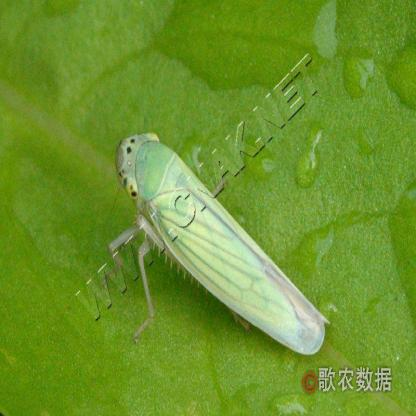Green-Leafhopper: (107, 128, 331, 354)
